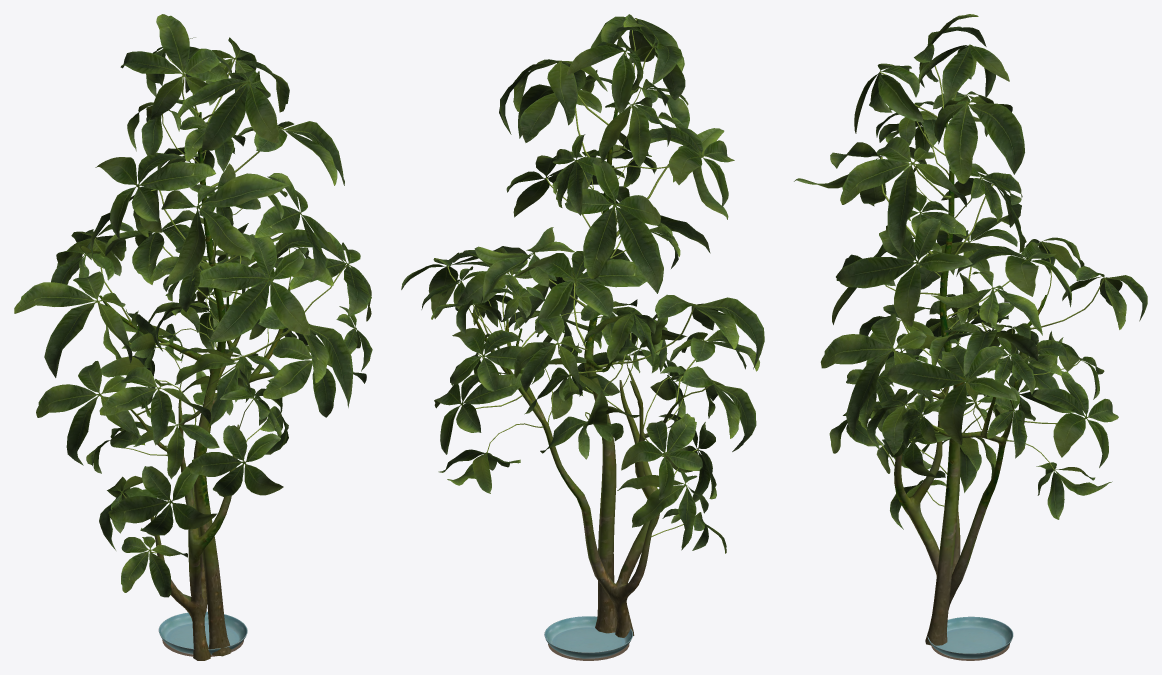
File: ph-money-tree-tall.glb
3 renders of one model, left to right at view 1: azimuth 30°, elevation 25°; view 2: azimuth 150°, elevation 25°; view 3: azimuth 270°, elevation 25°, orthographic. The views are drawn at different scales.
Parts seen in each view (by area): view 1: pachira_aquatica_01_leaves_d, pachira_aquatica_01_bark_d, Ecoforms_Plant_Container_S24Turquoise; view 2: pachira_aquatica_01_leaves_d, pachira_aquatica_01_bark_d, Ecoforms_Plant_Container_S24Turquoise; view 3: pachira_aquatica_01_leaves_d, pachira_aquatica_01_bark_d, Ecoforms_Plant_Container_S24Turquoise.
Boxes of the visible parts, x1=… form: pachira_aquatica_01_leaves_d: x1=14, y1=14, x2=372, y2=597; pachira_aquatica_01_bark_d: x1=99, y1=112, x2=290, y2=660; Ecoforms_Plant_Container_S24Turquoise: x1=158, y1=611, x2=247, y2=654; pachira_aquatica_01_leaves_d: x1=401, y1=14, x2=764, y2=553; pachira_aquatica_01_bark_d: x1=472, y1=109, x2=685, y2=637; Ecoforms_Plant_Container_S24Turquoise: x1=544, y1=616, x2=632, y2=658; pachira_aquatica_01_leaves_d: x1=794, y1=14, x2=1147, y2=529; pachira_aquatica_01_bark_d: x1=894, y1=124, x2=1047, y2=645; Ecoforms_Plant_Container_S24Turquoise: x1=927, y1=616, x2=1013, y2=658.
Size of the model in its own units: 1.05 by 1.91 by 0.997.
Materials: 4 (3 with a texture image).
